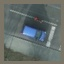car: (19, 24, 48, 43)
